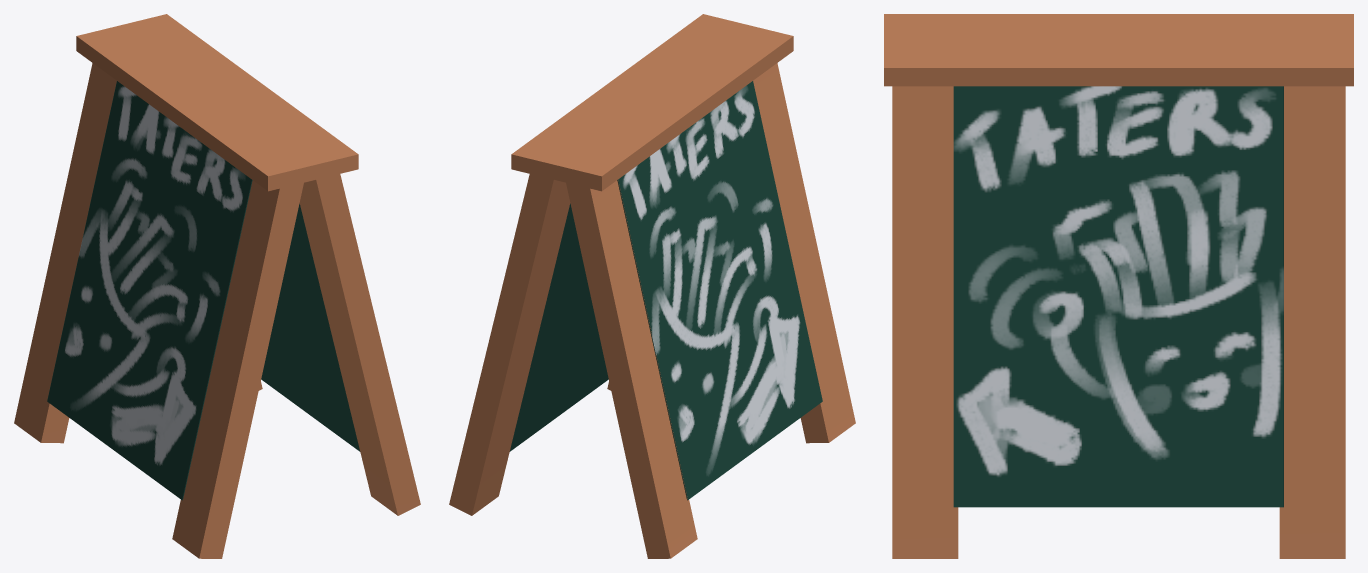
The model's file is F_Potykacz_001.fbx.
The picture shows the model from 3 angles, left to right: view 1: azimuth 30°, elevation 25°; view 2: azimuth 150°, elevation 25°; view 3: azimuth 270°, elevation 25°; orthographic projection. The views are drawn at different scales.
Parts seen in each view (by area): view 1: F_Potyczak_001; view 2: F_Potyczak_001; view 3: F_Potyczak_001.
Part boxes in pixels (left/top/right/bottom): F_Potyczak_001: left=14, top=14, right=420, bottom=558; F_Potyczak_001: left=449, top=14, right=855, bottom=558; F_Potyczak_001: left=884, top=14, right=1353, bottom=558.
Size of the model in its own units: 190 by 306 by 284.
